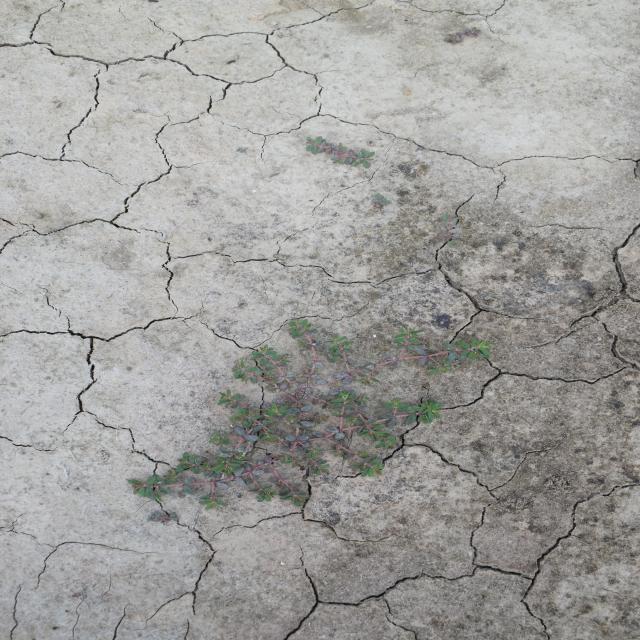SpottedSpurge: (122, 316, 496, 510), (303, 136, 377, 168), (444, 24, 484, 46), (146, 509, 180, 525)
